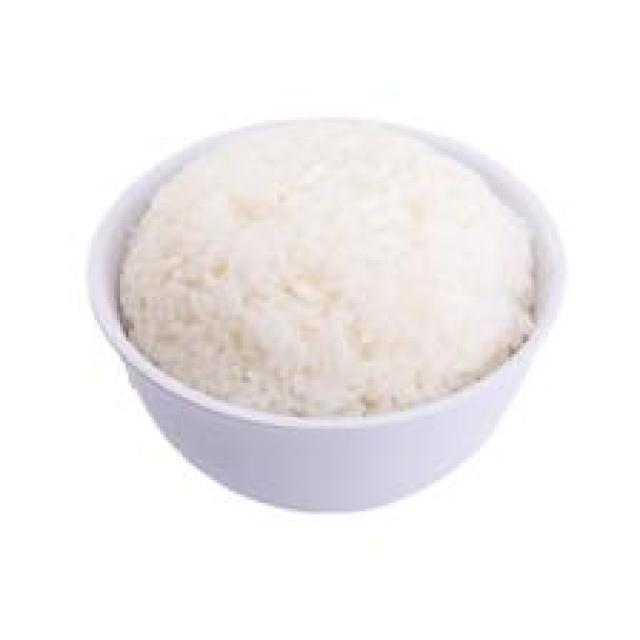Wet Waste: (117, 115, 538, 423)
